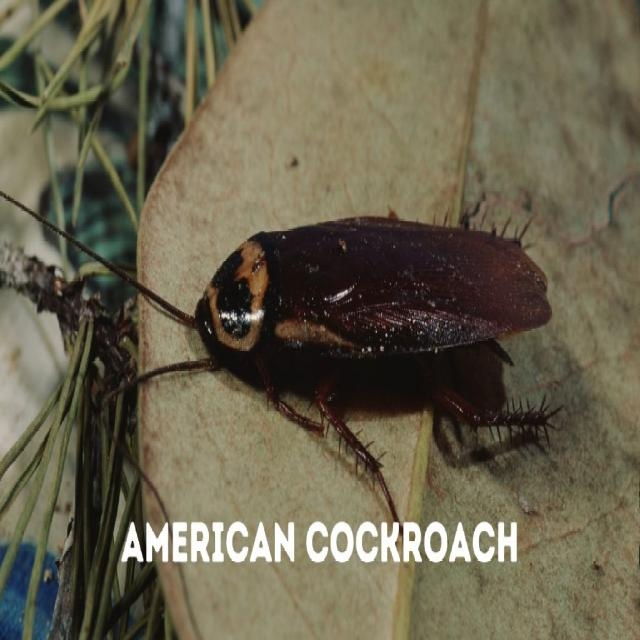Cockroach: (166, 204, 548, 429)
